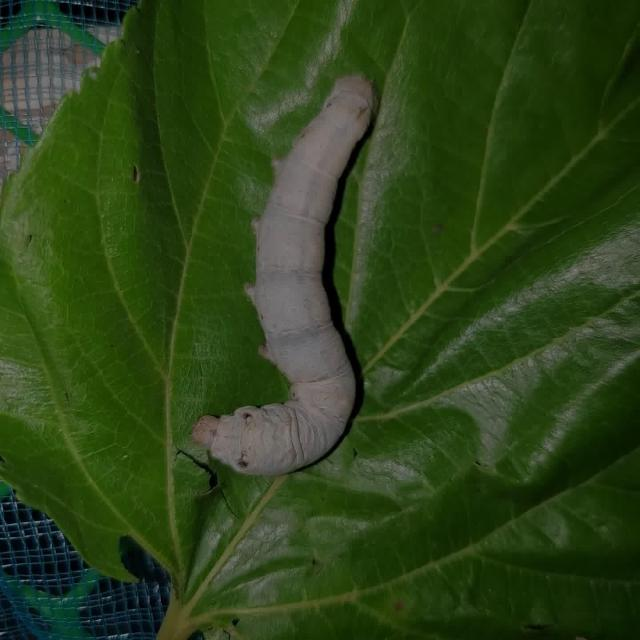Healthy: (188, 68, 379, 478)
